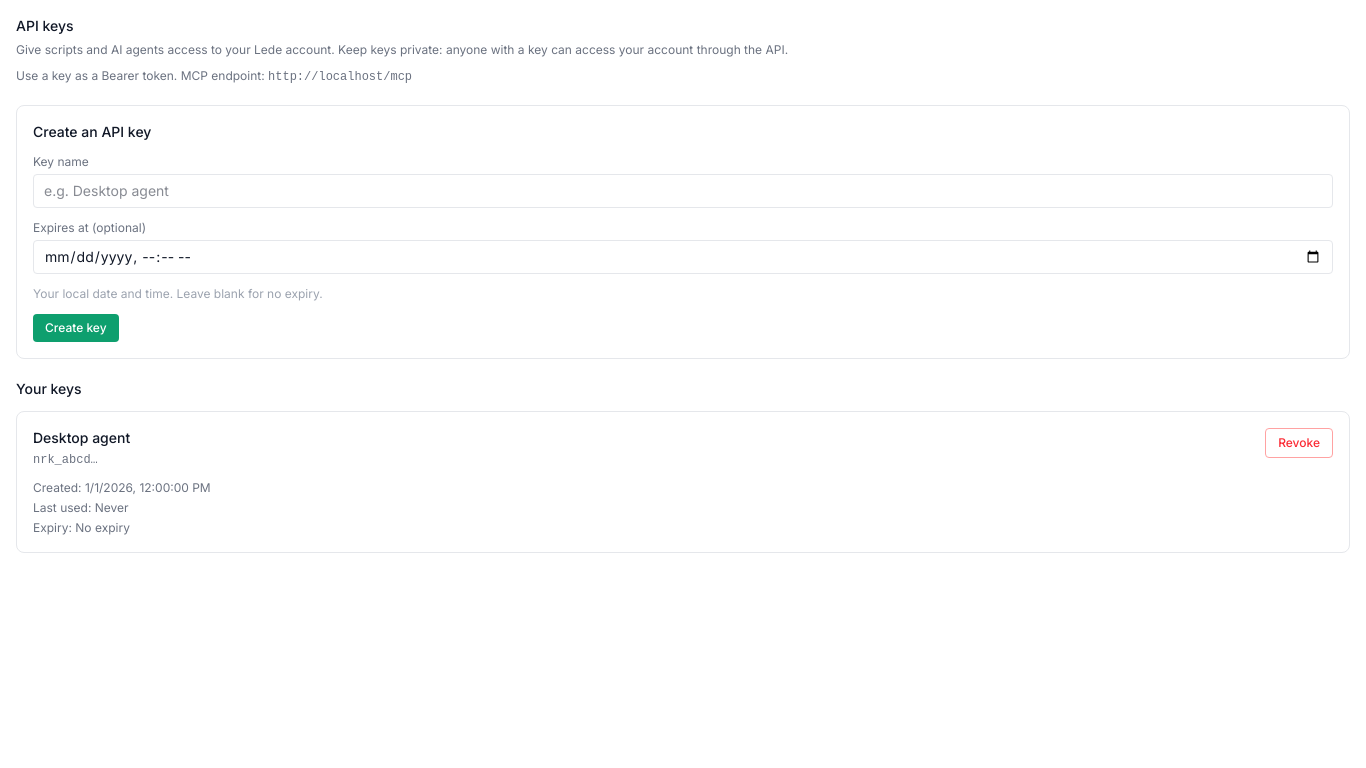
ApiKeysSection › requires explicit revocation, supports cancellation, and updates the list after success
The image size is (1366, 768).
Click the button with aria-label "Revoke Desktop agent" at (1299, 443), box [1265,428,1333,458]
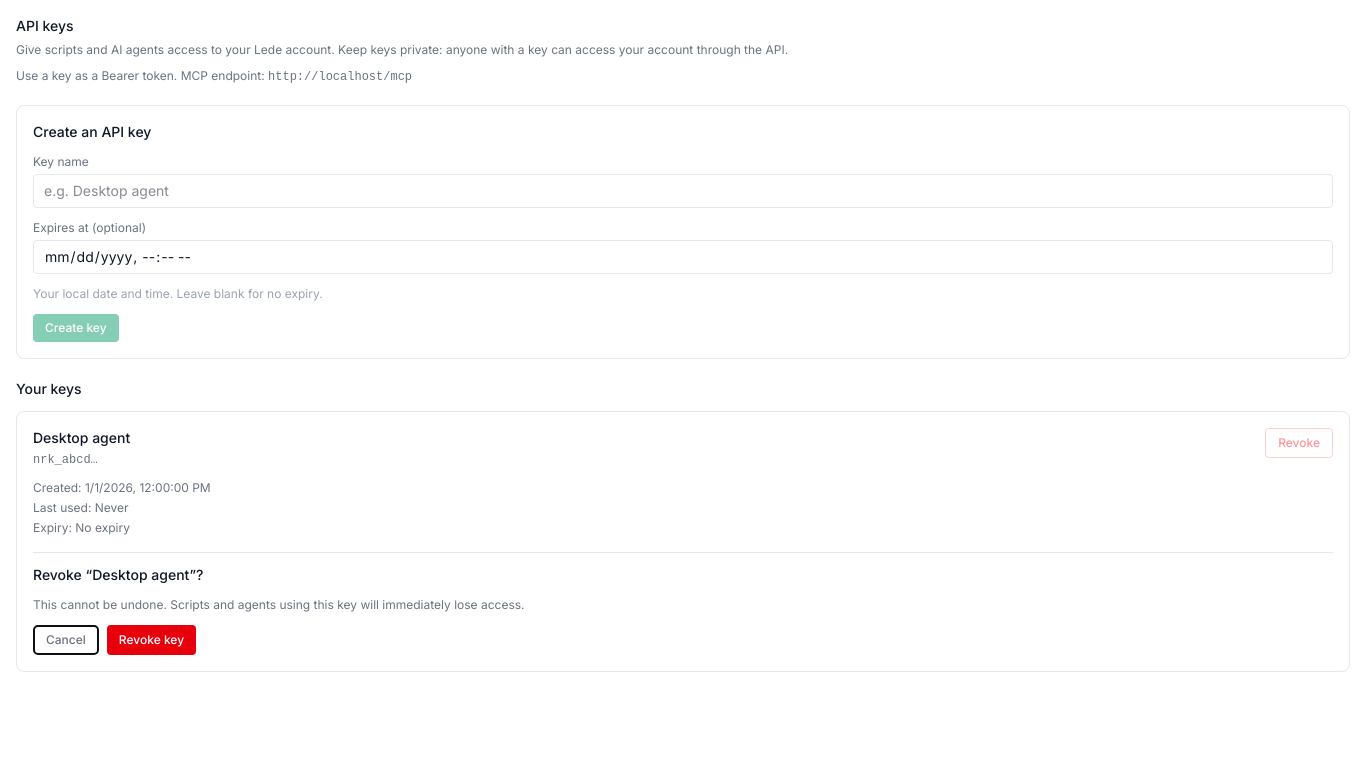
Check: the element "Revoke “Desktop agent”?" shows "cannot be undone", box [33,597,524,612]
Press Escape
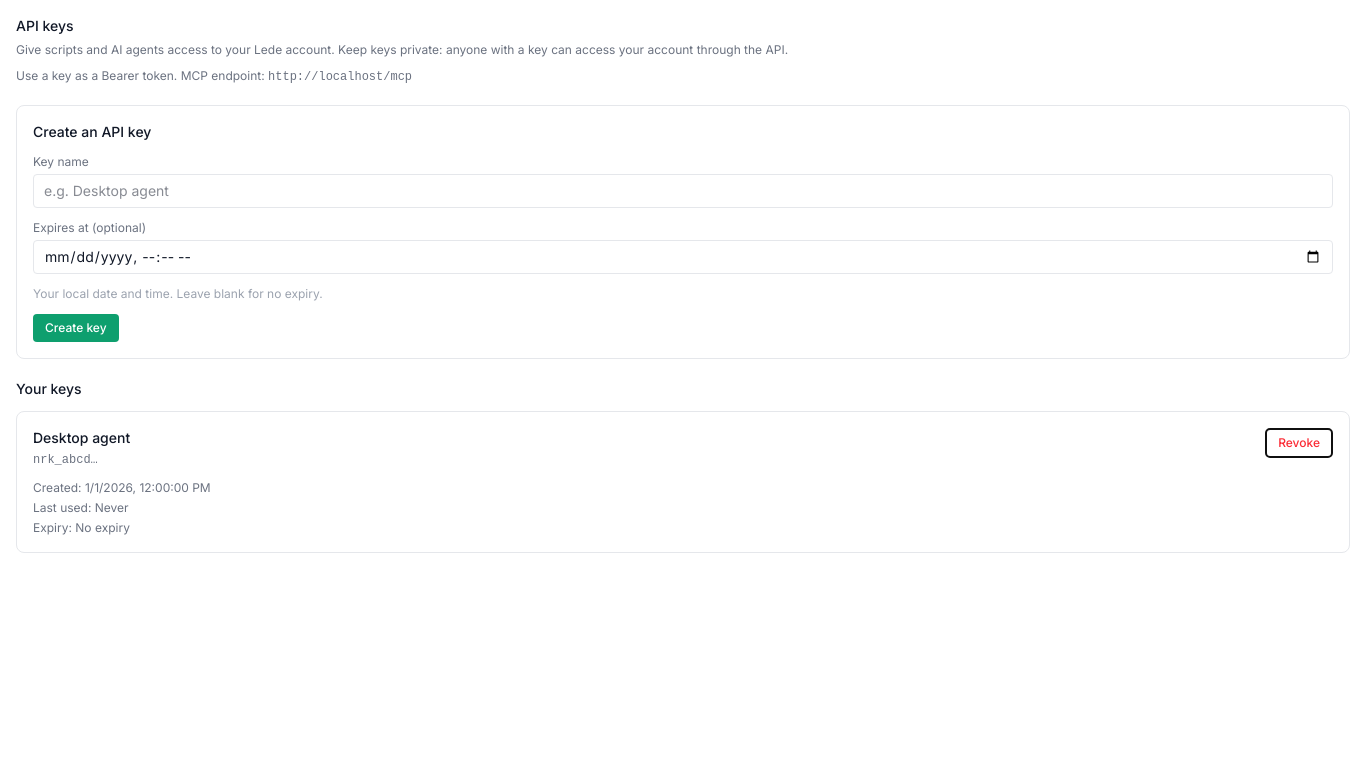
Check: the heading "Revoke “Desktop agent”?" is gone
Click the button with aria-label "Revoke Desktop agent" at (1299, 443), box [1265,428,1333,458]
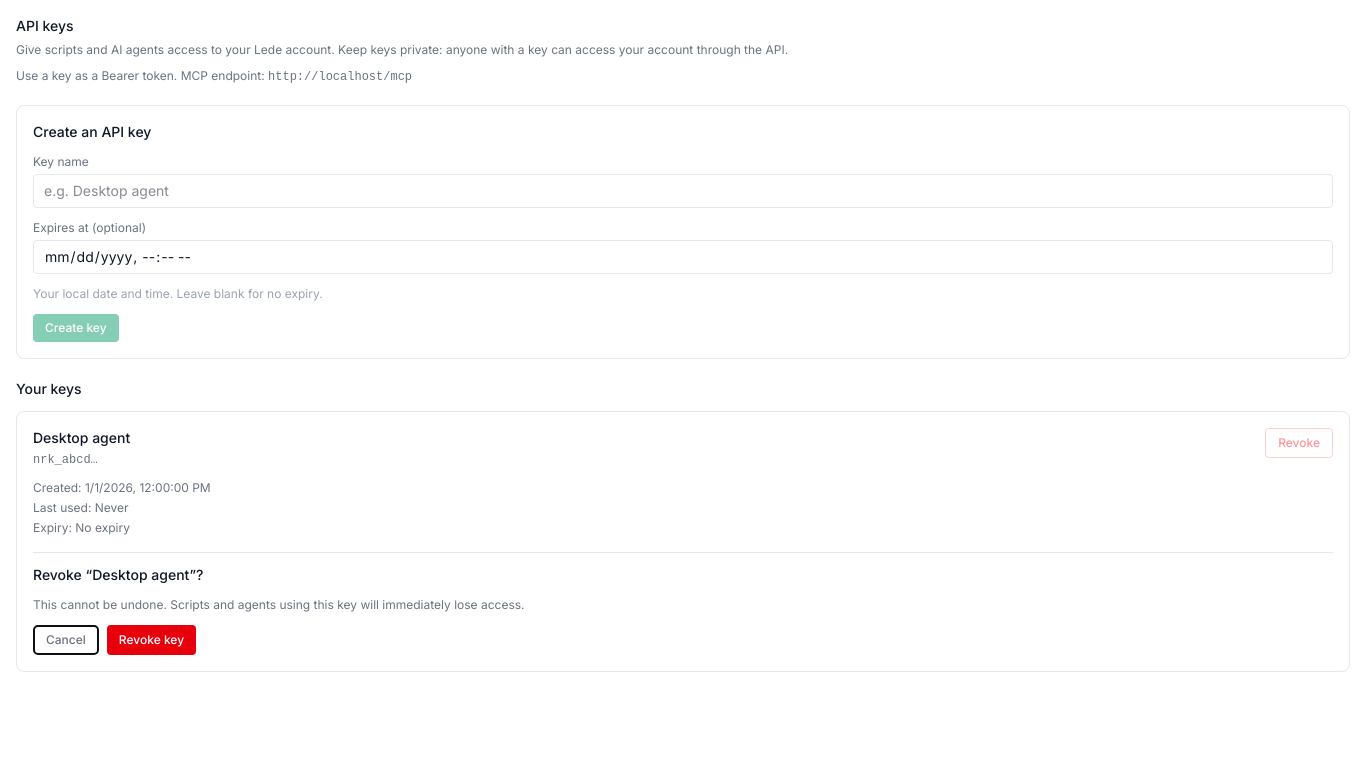
Click the button "Cancel" at (66, 640), box [33,625,99,655]
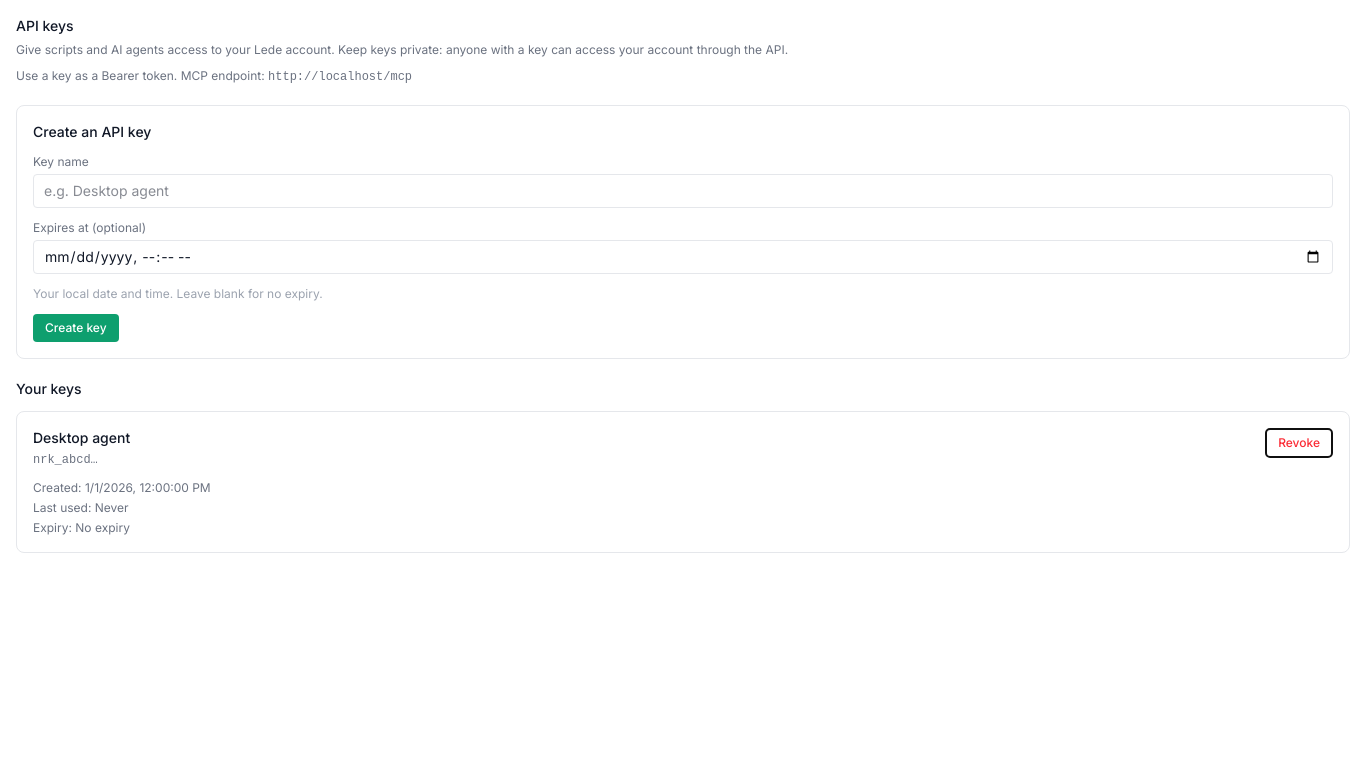
Click the button with aria-label "Revoke Desktop agent" at (1299, 443), box [1265,428,1333,458]
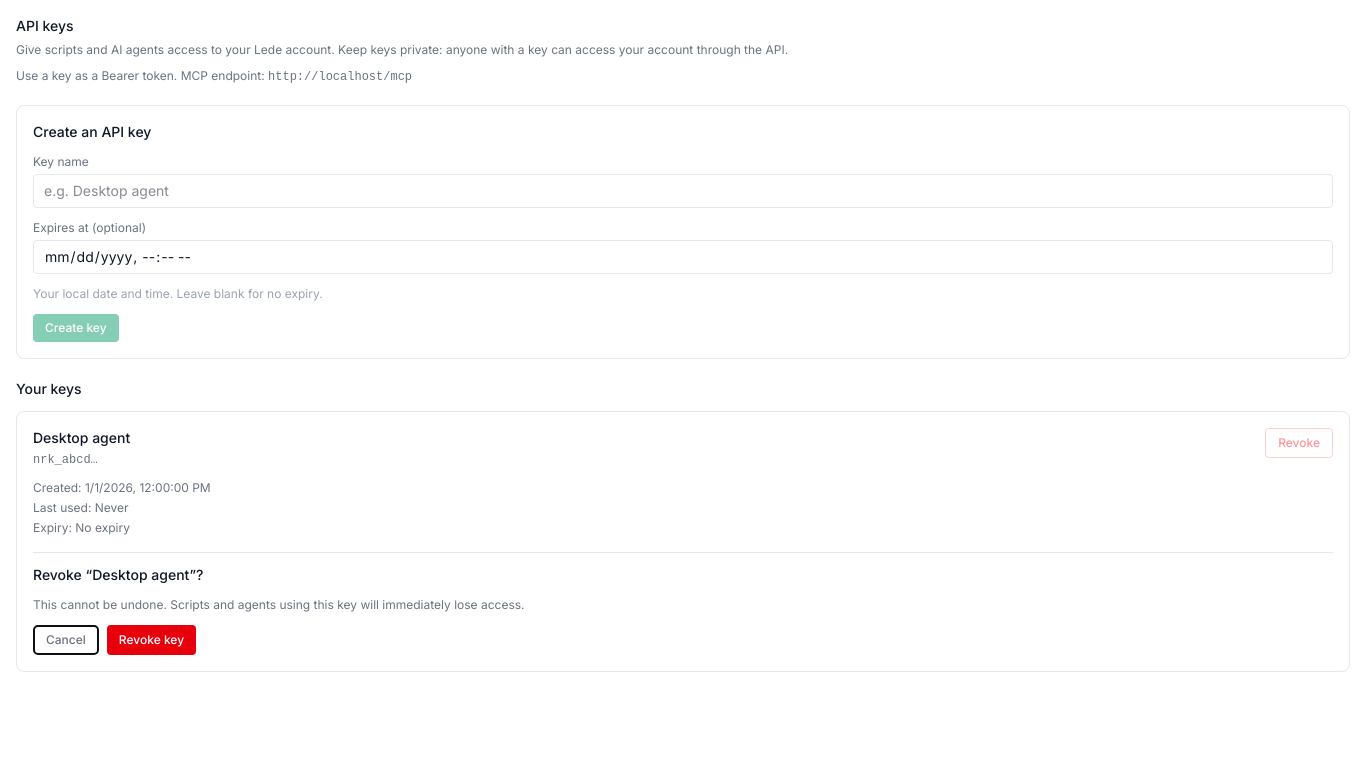
Click the button "Revoke key" at (151, 640), box [107,625,196,655]
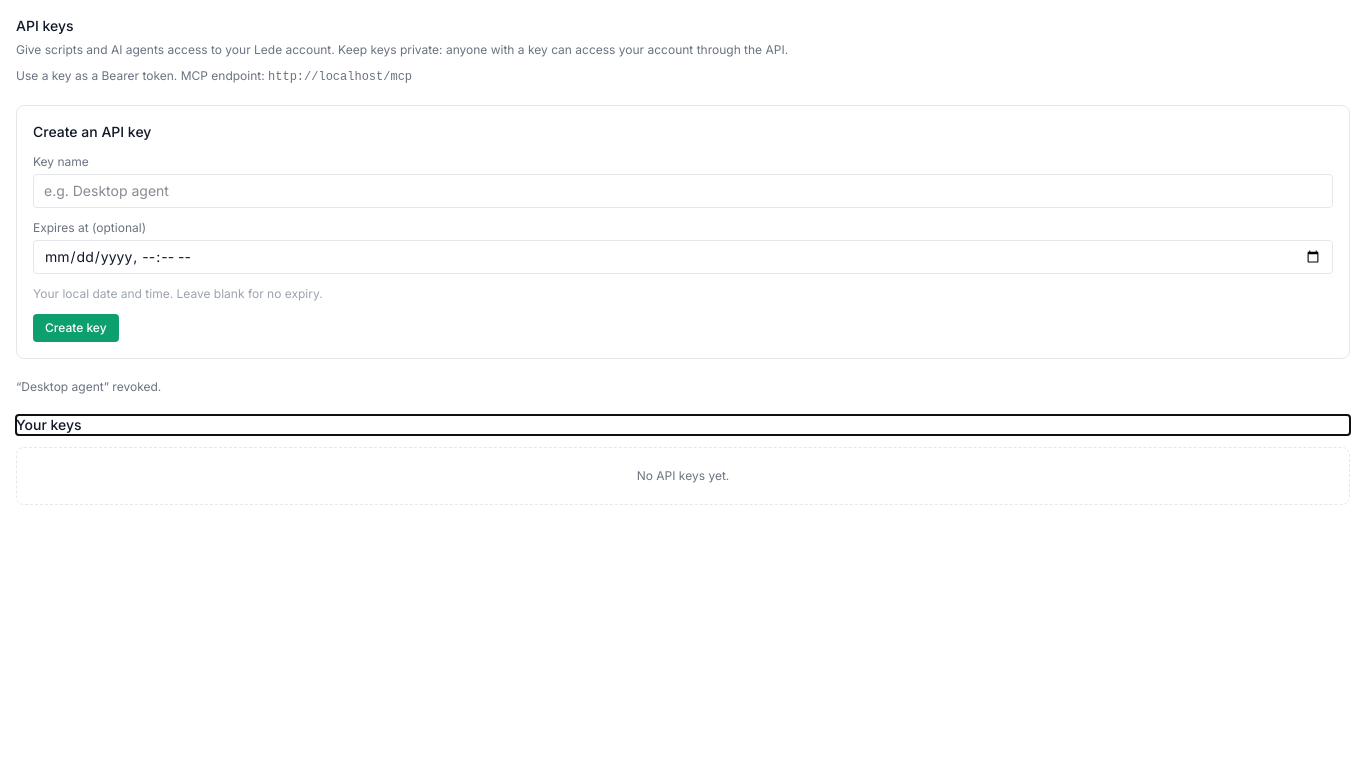
Check: the text "“Desktop agent” revoked." is shown, box [16,379,161,394]
Check: the text "No API keys yet." is shown, box [16,447,1350,505]
